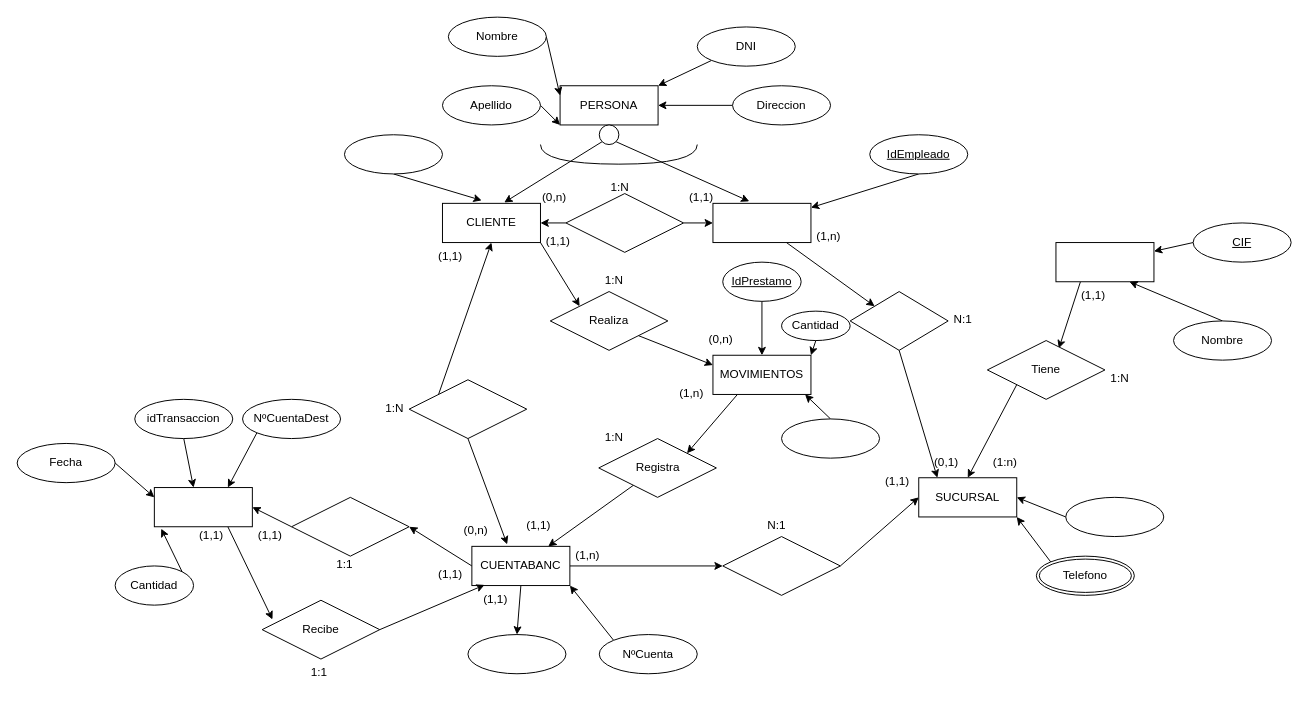
Some shapes in this 1308 by 709 pixel diagram are drawn without their labels. The shapes that lost their labels are listed below. From the top down, each one's centre as x and y in pixels, then its label:
At point 392,154: "IdCliente".
At point 624,222: "Asociado".
At point 761,222: "GESTORBANCO".
At point 1104,262: "BANCO".
At point 898,320: "Trabaja".
At point 467,409: "Pertenece".
At point 830,438: "FechaMovimiento".
At point 202,507: "TRANSACCION".
At point 350,526: "Envia".
At point 1114,516: "IdSurcursal".
At point 781,565: "Asociada".
At point 516,654: "IdCuenta".
